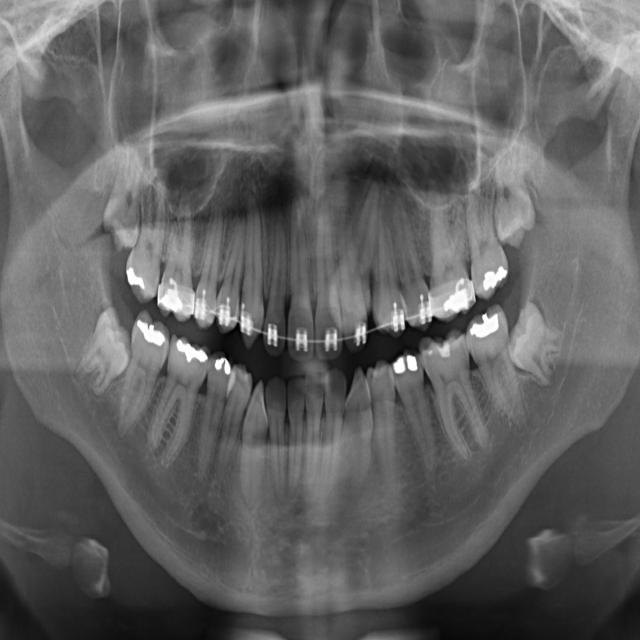AmalgamRestoration: (468, 308, 502, 351), (136, 312, 167, 358), (479, 261, 508, 300), (158, 280, 184, 322), (174, 338, 208, 365), (392, 349, 420, 378), (124, 263, 146, 295), (215, 354, 232, 379)
CompositeResinRestoration: (426, 334, 461, 364)
